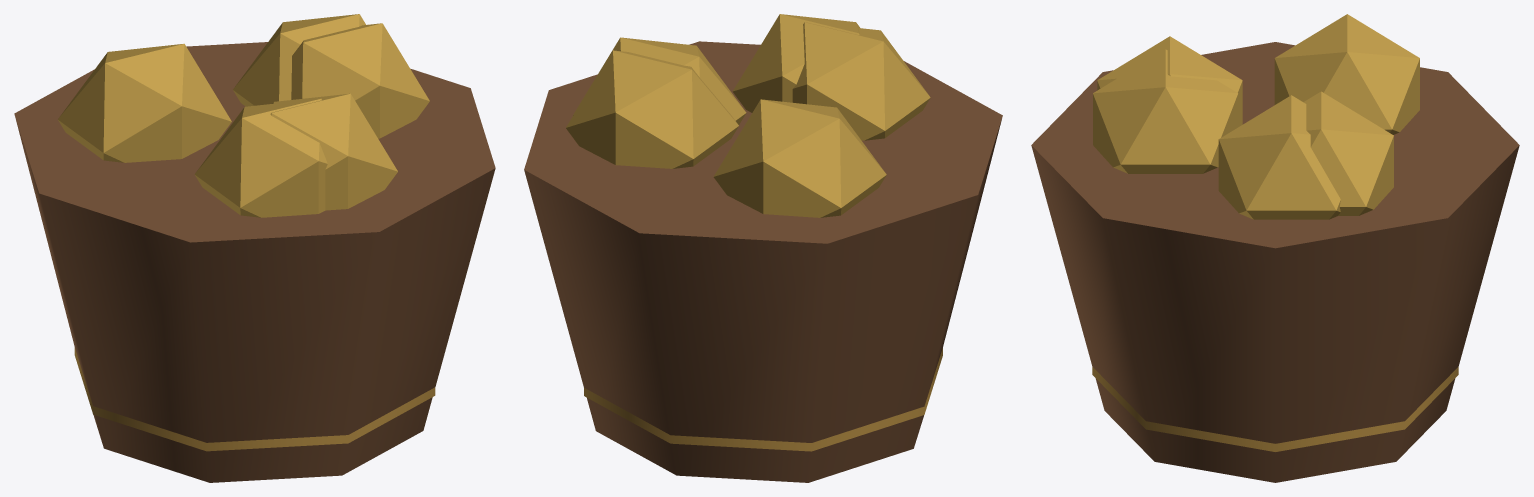
Rendered from basket.glb.
3 renders of one model, left to right at view 1: azimuth 30°, elevation 25°; view 2: azimuth 150°, elevation 25°; view 3: azimuth 270°, elevation 25°, orthographic. The views are drawn at different scales.
Visible parts, largest first — view 1: basket-surface; view 2: basket-surface; view 3: basket-surface.
Boxes of the visible parts, x1,y1,x2,y2 form: basket-surface: [14, 14, 495, 482]; basket-surface: [524, 14, 1002, 482]; basket-surface: [1031, 14, 1519, 482].
Bounding box in the file's own units: 0.8 × 0.6191 × 0.8.
